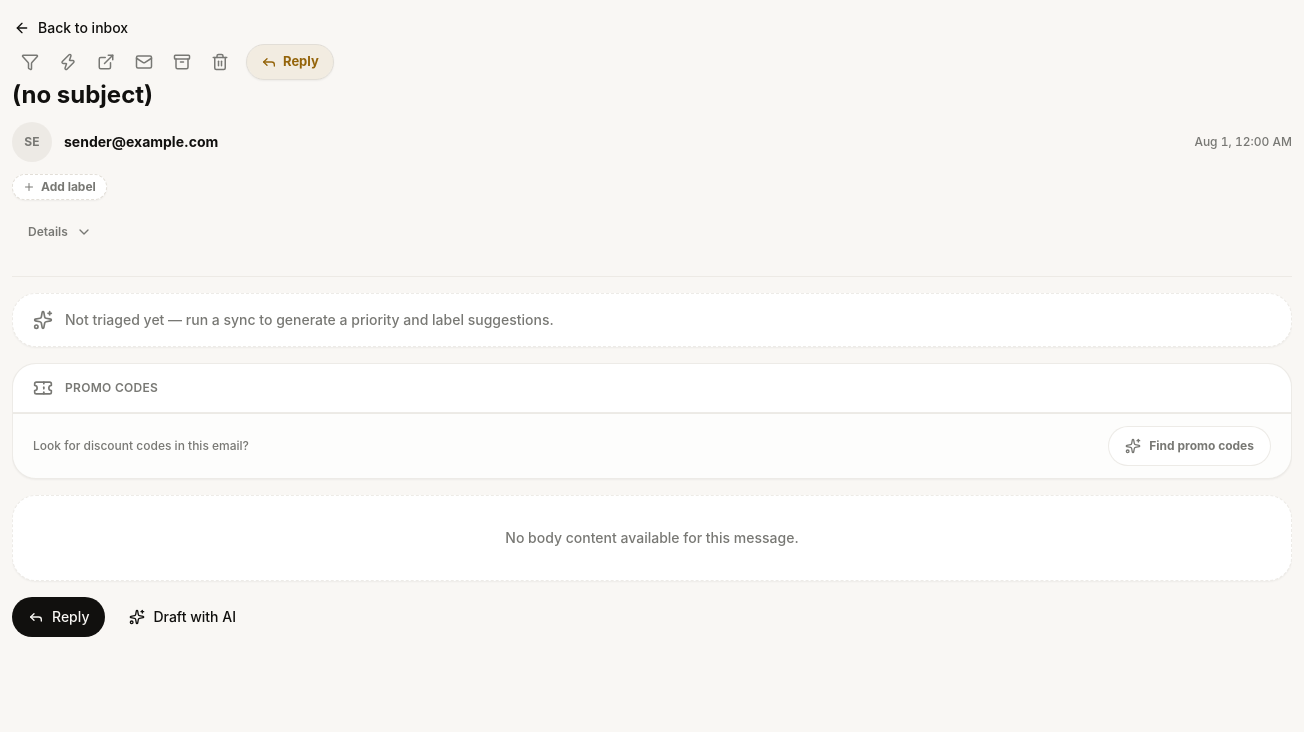
it: attaching one › sends the label as an addition and draws the badge before the server answers
This screenshot has width=1304, height=732.
Click the button "Add label": x=59, y=187 [12,174,107,200]
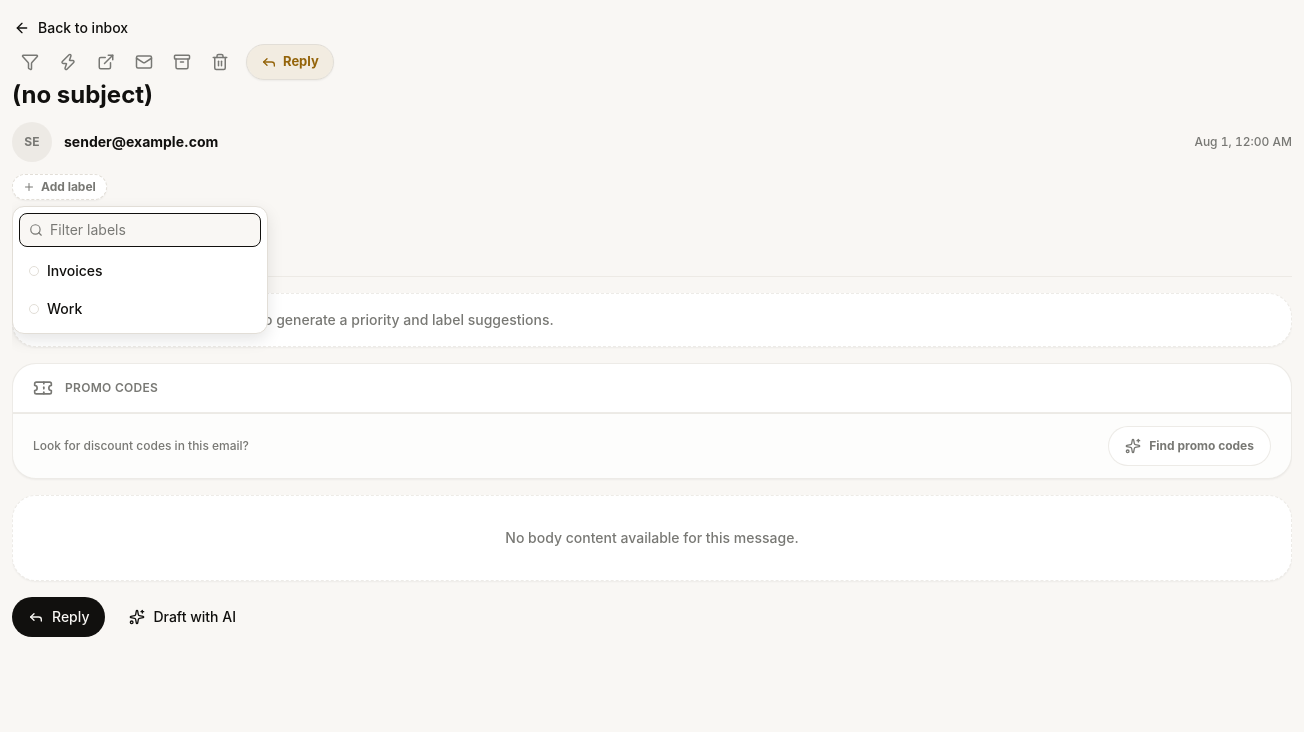
Click the menu item "Work": x=140, y=309 [19,291,261,327]
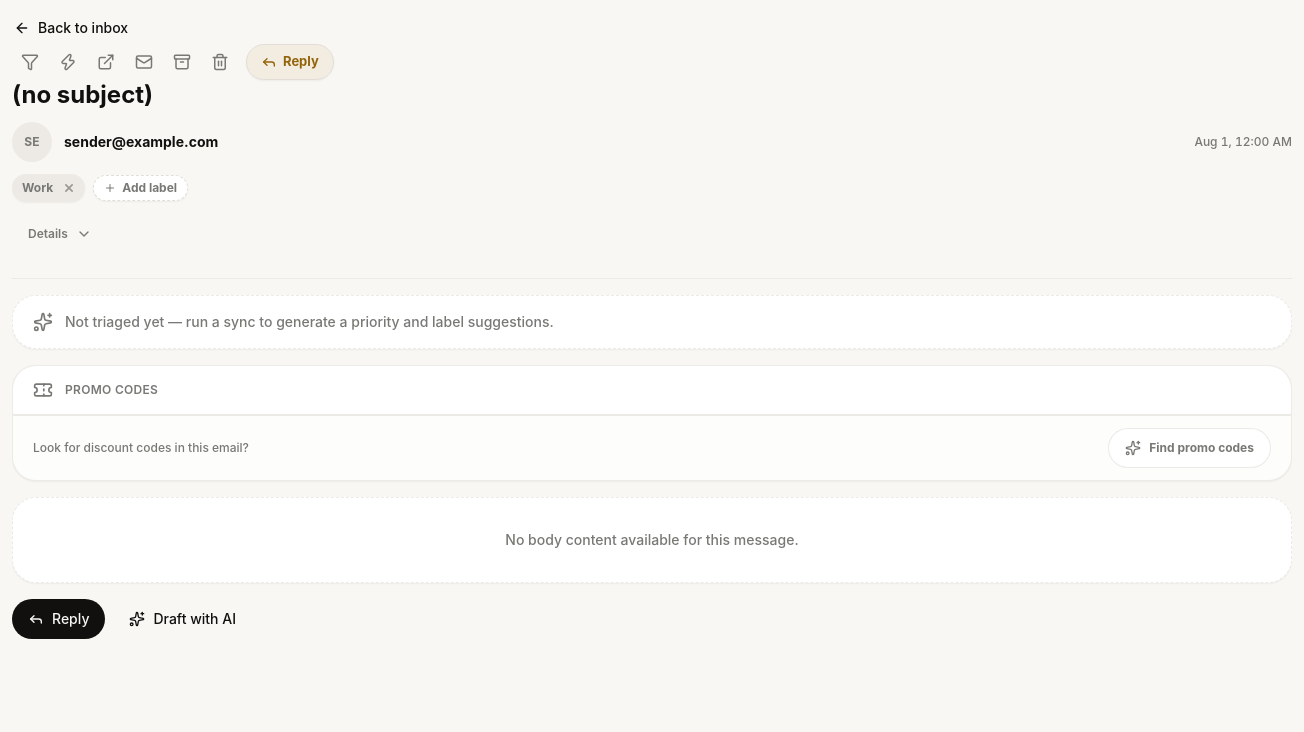
Check: the button named "Remove label Work" is shown, box [59,178,79,198]
Check: the search field labelled "Labels" is gone
